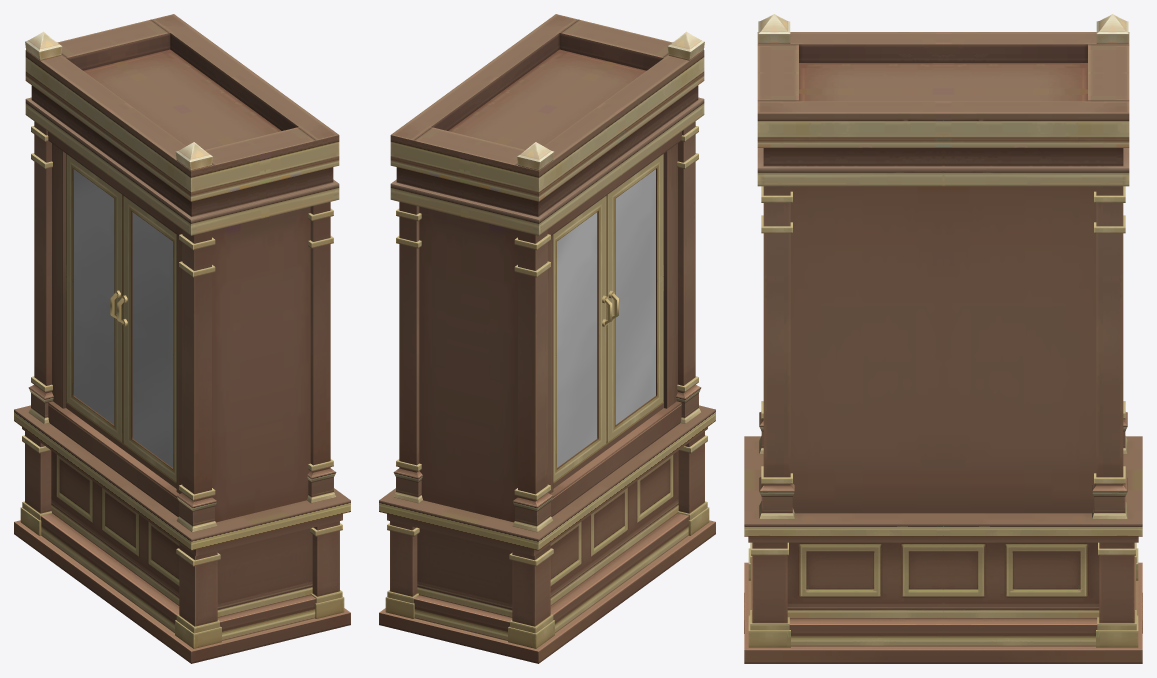
Rendered from my_teaparty_01_shelf_02.glb.
3 renders of one model, left to right at view 1: azimuth 30°, elevation 25°; view 2: azimuth 150°, elevation 25°; view 3: azimuth 270°, elevation 25°, orthographic. The views are drawn at different scales.
Parts seen in each view (by area): view 1: my_teaparty_01_shelf_02; view 2: my_teaparty_01_shelf_02; view 3: my_teaparty_01_shelf_02.
Boxes of the visible parts, x1,y1,x2,y2 form: my_teaparty_01_shelf_02: [14, 14, 350, 663]; my_teaparty_01_shelf_02: [379, 14, 715, 663]; my_teaparty_01_shelf_02: [744, 14, 1142, 663].
Bounding box in the file's own units: 0.00551 × 0.0168 × 0.0106.
Materials: 2 (2 with a texture image).
